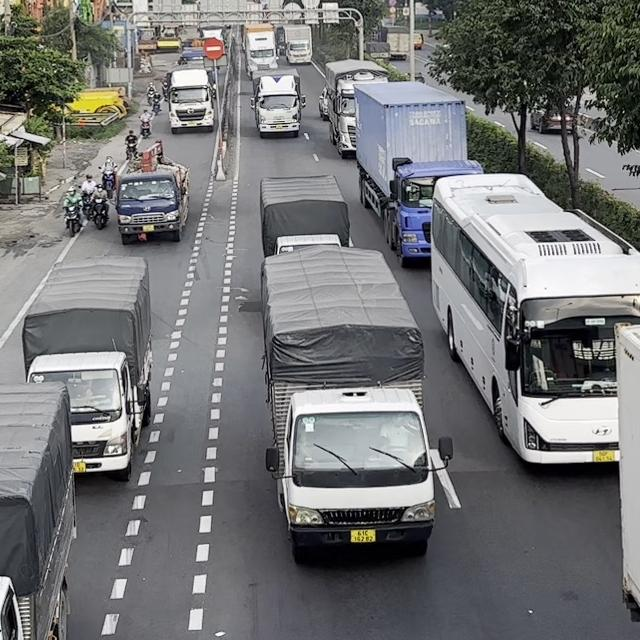bus: (429, 172, 639, 466)
motorcycle: (62, 200, 84, 237), (90, 197, 109, 230), (100, 167, 116, 198), (79, 190, 93, 217), (139, 114, 152, 138), (125, 138, 138, 160)
truck: (259, 243, 459, 564), (21, 254, 153, 480), (354, 79, 483, 268), (0, 380, 77, 639), (613, 321, 639, 622), (259, 173, 352, 257), (114, 145, 190, 244), (318, 58, 390, 158), (249, 72, 306, 138), (164, 67, 216, 134), (242, 22, 279, 77), (275, 24, 312, 64)
